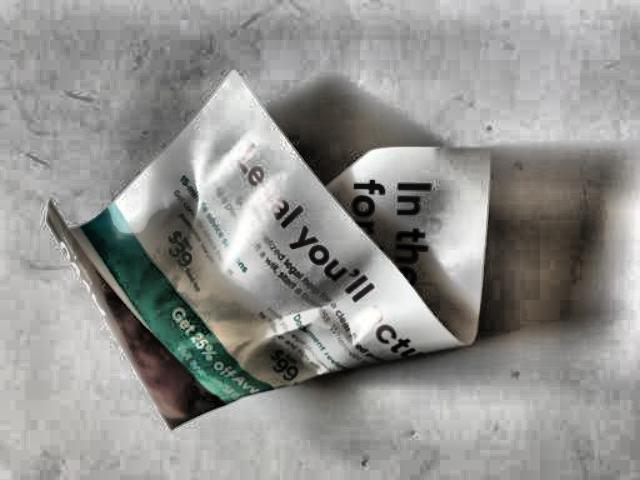Paper: (30, 73, 613, 435)
